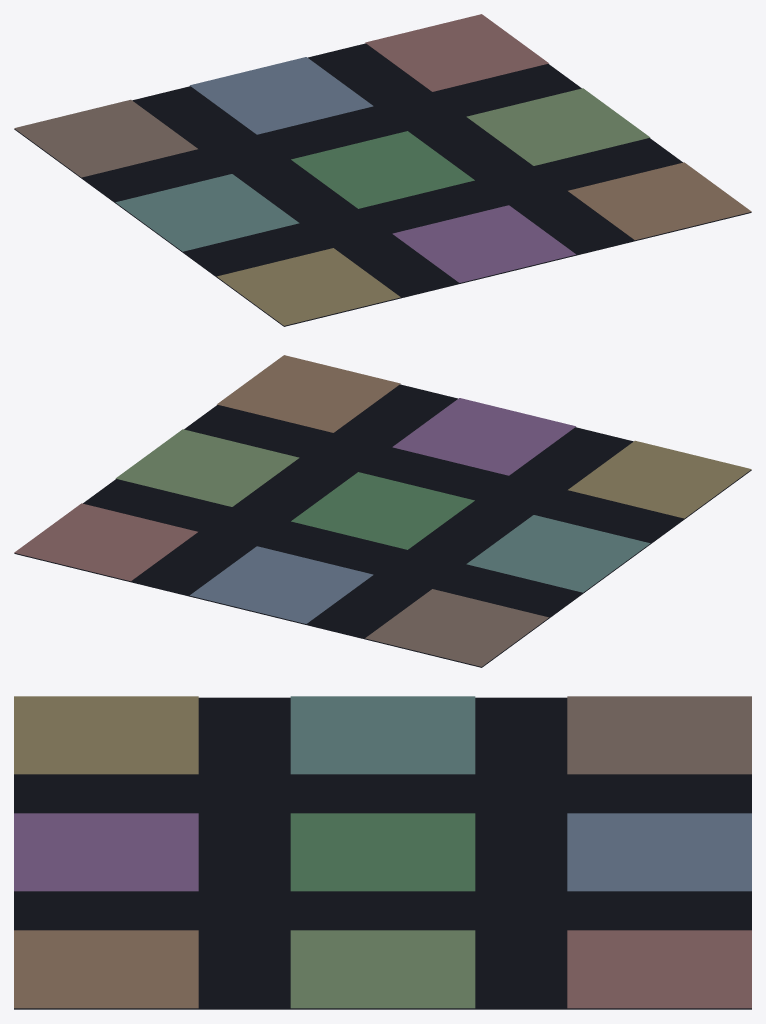
The model's file is cluedo_board.glb.
3 renders of one model, top to bottom at view 1: azimuth 30°, elevation 25°; view 2: azimuth 150°, elevation 25°; view 3: azimuth 270°, elevation 25°, orthographic. The views are drawn at different scales.
Visible parts, largest first — view 1: Plano, Comedor, Invernadero, Estudio, Biblioteca, Vestibulo, Salon, Billar, SalaDeBalile, Cocina; view 2: Plano, Salon, Invernadero, Biblioteca, Cocina, Vestibulo, Billar, SalaDeBalile, Comedor, Estudio; view 3: Plano, Biblioteca, Billar, Invernadero, Estudio, Vestibulo, Salon, Cocina, SalaDeBalile, Comedor.
Part boxes in pixels (x1,y1,x2,y2): Plano: (14,43,751,326); Comedor: (568,162,751,240); Invernadero: (466,88,650,165); Estudio: (14,99,197,177); Biblioteca: (115,174,299,251); Vestibulo: (190,57,373,134); Salon: (365,14,548,91); Billar: (291,131,474,208); SalaDeBalile: (392,205,575,282); Cocina: (217,248,400,325); Plano: (14,384,751,667); Salon: (14,503,197,581); Invernadero: (115,429,299,506); Biblioteca: (466,515,650,592); Cocina: (568,440,751,518); Vestibulo: (190,546,373,623); Billar: (291,472,474,549); SalaDeBalile: (392,398,575,475); Comedor: (217,355,400,432); Estudio: (365,589,548,666); Plano: (14,697,751,1009); Biblioteca: (290,696,475,774); Billar: (290,813,475,891); Invernadero: (290,930,475,1008); Estudio: (567,696,751,774); Vestibulo: (567,813,751,891); Salon: (567,930,751,1008); Cocina: (14,696,198,774); SalaDeBalile: (14,813,198,891); Comedor: (14,930,198,1008).
Bounding box in the file's own units: 24 × 0.05 × 24.
